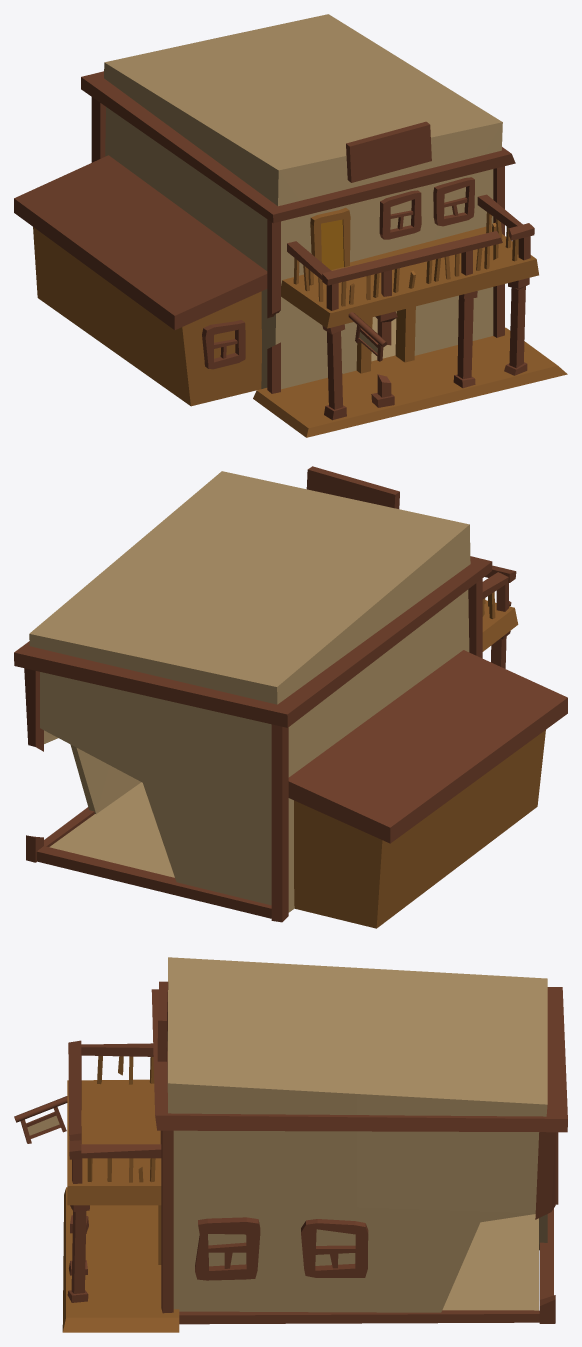
File: banco_edificio.fbx
3 renders of one model, top to bottom at view 1: azimuth 30°, elevation 25°; view 2: azimuth 150°, elevation 25°; view 3: azimuth 270°, elevation 25°, orthographic. The views are drawn at different scales.
Visible parts, largest first — view 1: banco_edificio; view 2: banco_edificio; view 3: banco_edificio.
Part boxes in pixels (x1=…): banco_edificio: x1=14, y1=14, x2=567, y2=437; banco_edificio: x1=14, y1=466, x2=567, y2=928; banco_edificio: x1=14, y1=957, x2=567, y2=1332.
Size of the model in its own units: 1392 by 952 by 1819.
